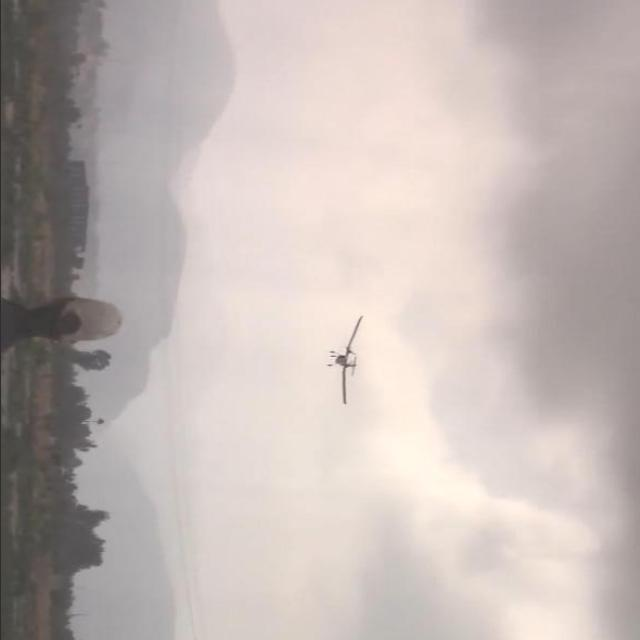plane: (326, 316, 364, 406)
